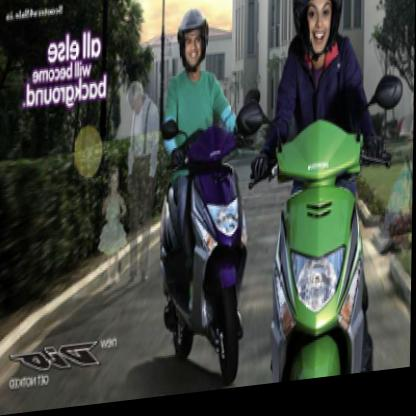With Helmet: (289, 0, 351, 62), (175, 5, 211, 77)
